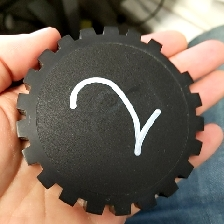gear: (15, 25, 205, 217)
missing: (146, 36, 195, 87)
